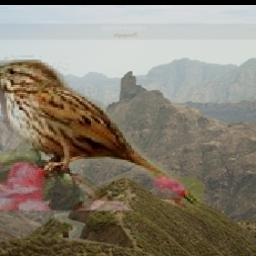Sparrow: (0, 56, 208, 212)
